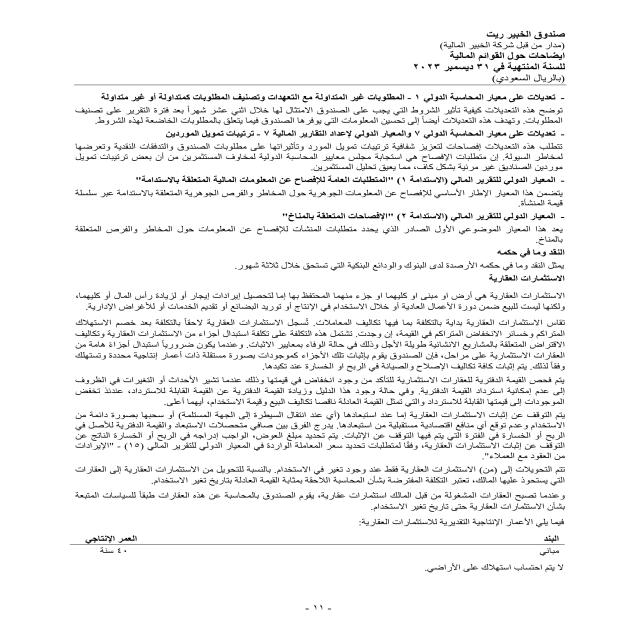notes: (447, 49, 577, 60)
text: (55, 87, 572, 575)
